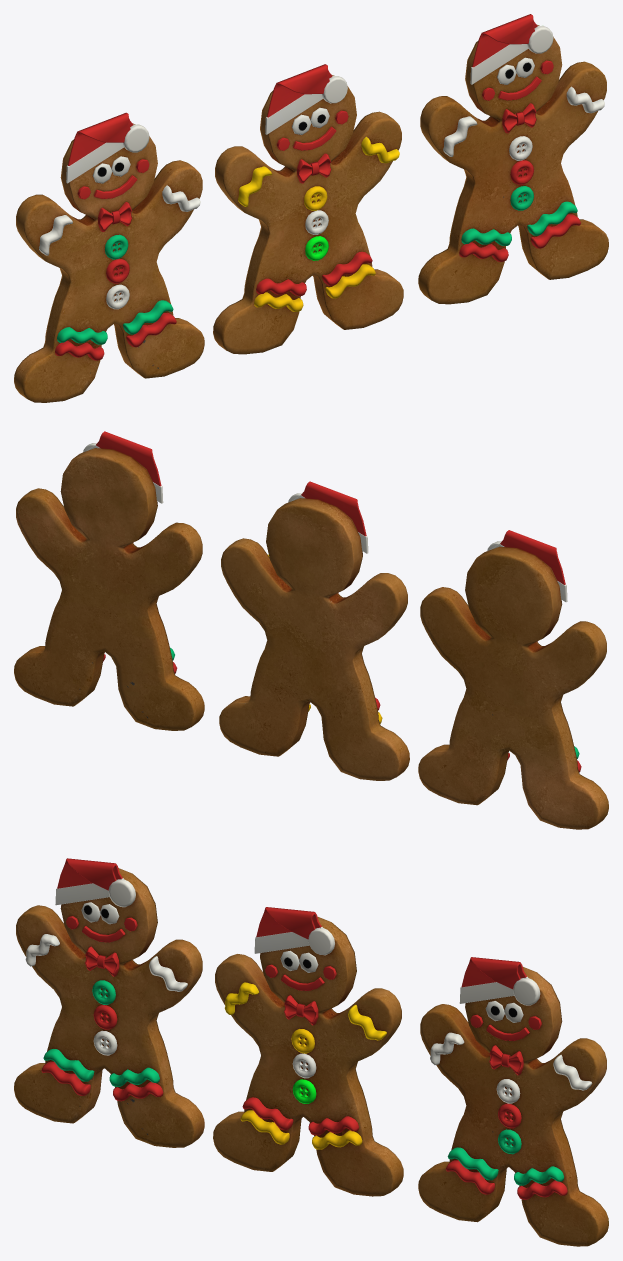
File: christmas_ginger_bread_cookies.glb
3 renders of one model, top to bottom at view 1: azimuth 30°, elevation 25°; view 2: azimuth 150°, elevation 25°; view 3: azimuth 330°, elevation 25°, orthographic.
Parts seen in each view (by area): view 1: Ginger_Bread_Cookie_03, Ginger_Bread_Cookie_01, Ginger_Bread_Cookie_02; view 2: Ginger_Bread_Cookie_02, Ginger_Bread_Cookie_03, Ginger_Bread_Cookie_01; view 3: Ginger_Bread_Cookie_03, Ginger_Bread_Cookie_01, Ginger_Bread_Cookie_02.
Part boxes in pixels (box(x1,y1,x2,y2)): Ginger_Bread_Cookie_03: box(14, 112, 204, 402); Ginger_Bread_Cookie_01: box(418, 14, 608, 304); Ginger_Bread_Cookie_02: box(213, 64, 403, 354); Ginger_Bread_Cookie_02: box(219, 481, 409, 780); Ginger_Bread_Cookie_03: box(418, 530, 608, 829); Ginger_Bread_Cookie_01: box(14, 431, 204, 730); Ginger_Bread_Cookie_03: box(14, 858, 204, 1147); Ginger_Bread_Cookie_01: box(418, 957, 608, 1246); Ginger_Bread_Cookie_02: box(213, 907, 403, 1196).
Bounding box in the file's own units: 0.2899 × 0.1296 × 0.0135.
1 material, 1 textured.
